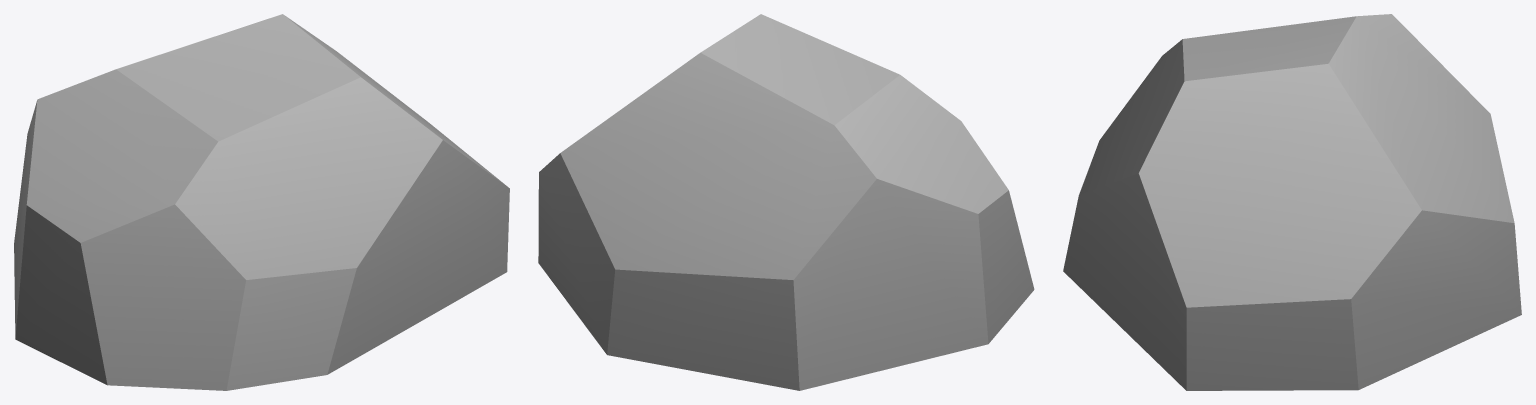
Rendered from stone small 6.fbx.
3 views of the same model, side by side, from view 1: azimuth 30°, elevation 25°; view 2: azimuth 150°, elevation 25°; view 3: azimuth 270°, elevation 25° (orthographic). The views are drawn at different scales.
Parts seen in each view (by area): view 1: stone small 6; view 2: stone small 6; view 3: stone small 6.
Part boxes in pixels (<box>): stone small 6: <box>14,14,509,390</box>; stone small 6: <box>538,14,1034,390</box>; stone small 6: <box>1063,14,1521,390</box>.
Bounding box in the file's own units: 133 × 70.41 × 117.
